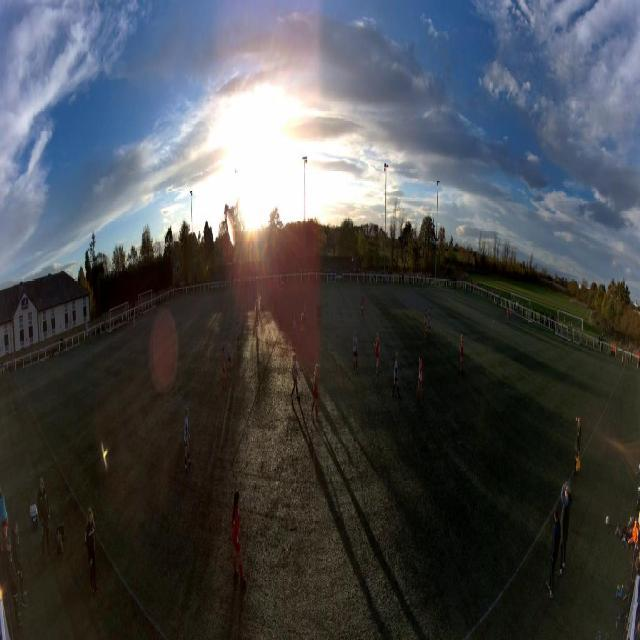ball: (493, 321, 494, 323)
player: (231, 489, 247, 586), (311, 364, 322, 420), (183, 406, 192, 472), (290, 353, 299, 399), (392, 354, 400, 398), (222, 345, 228, 394), (418, 357, 424, 401), (374, 334, 380, 374), (226, 338, 232, 378), (353, 331, 358, 371), (460, 335, 465, 371), (300, 311, 305, 343), (292, 316, 296, 348), (236, 320, 240, 351), (428, 312, 432, 339), (256, 301, 260, 327), (361, 297, 365, 322), (424, 310, 427, 340), (304, 298, 307, 324), (133, 316, 136, 336), (508, 308, 510, 324)
